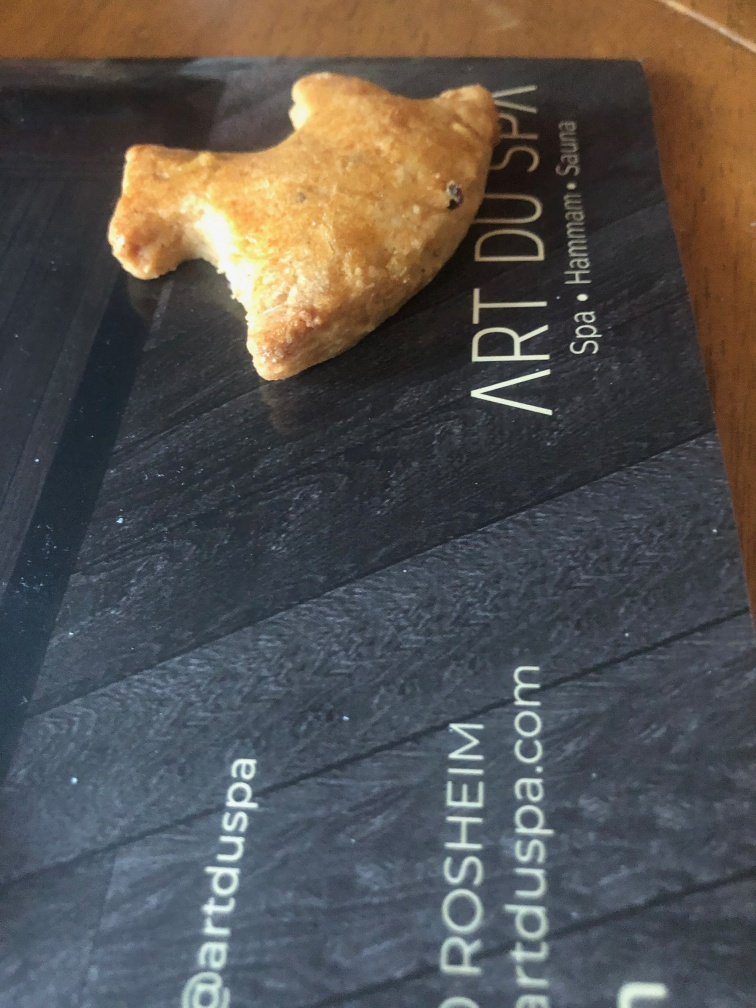lamb: (105, 66, 501, 395)
